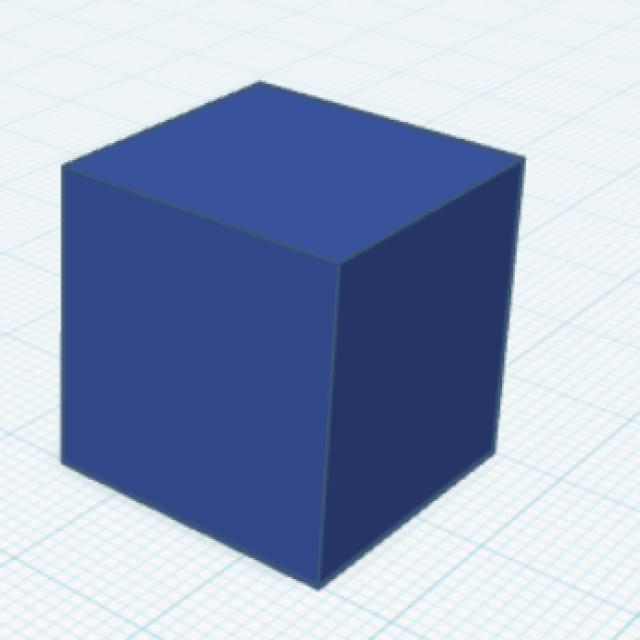cube: (56, 76, 531, 596)
